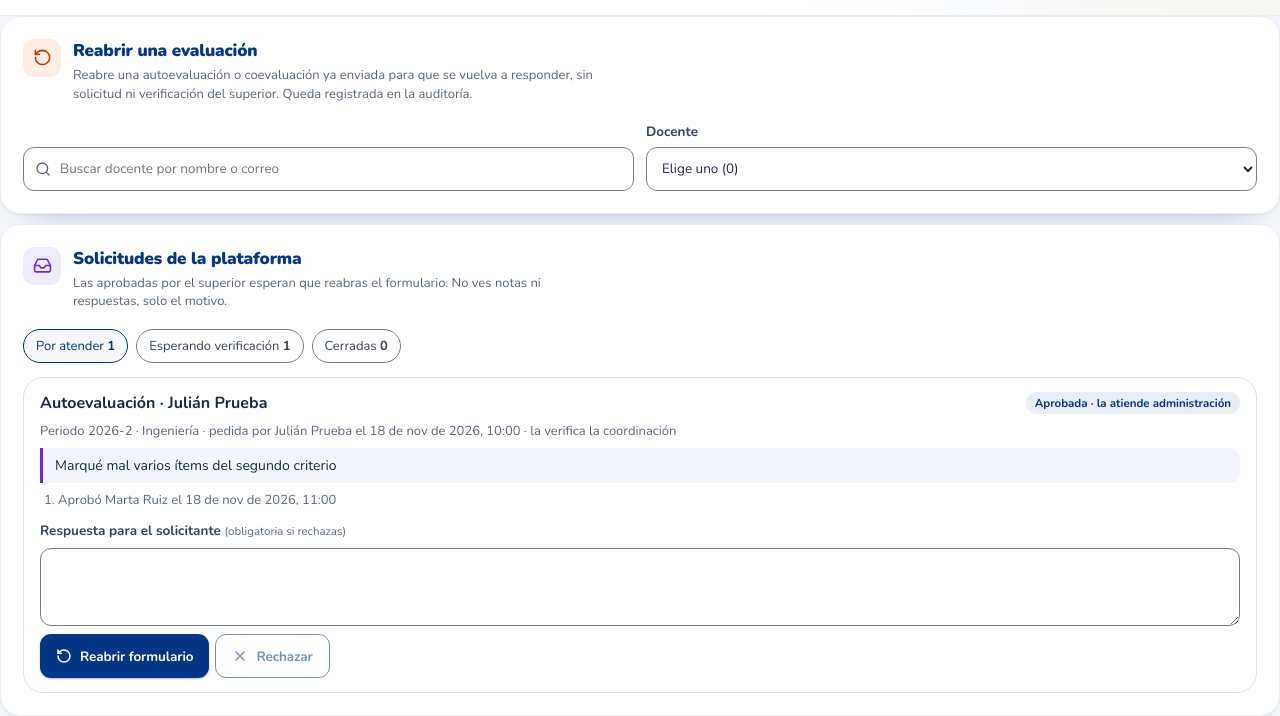
Scenario: Solicitudes de corrección › la administración reabre el formulario de una solicitud aprobada
(page scrolled)
Expected: the button "Por atender 1" is shown, [23,329,128,363]
Expected: the list item "Aprobó Marta Ruiz el 18 de nov de 2026, 11:00" is shown, [58,491,336,509]
Click the button "Reabrir formulario".
click(125, 656)  # box [40,634,209,678]
(page scrolled)
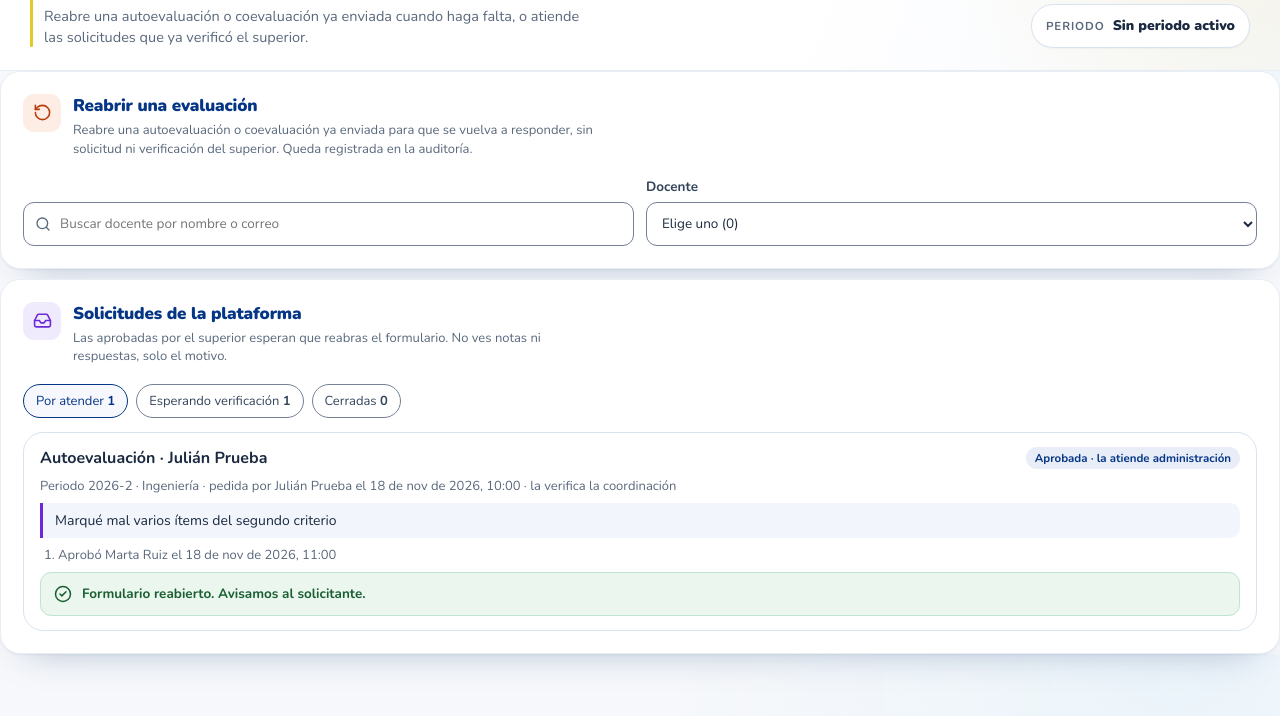
Result: the text "Formulario reabierto. Avisamos al solicitante." is shown at [82,584,366,604]
